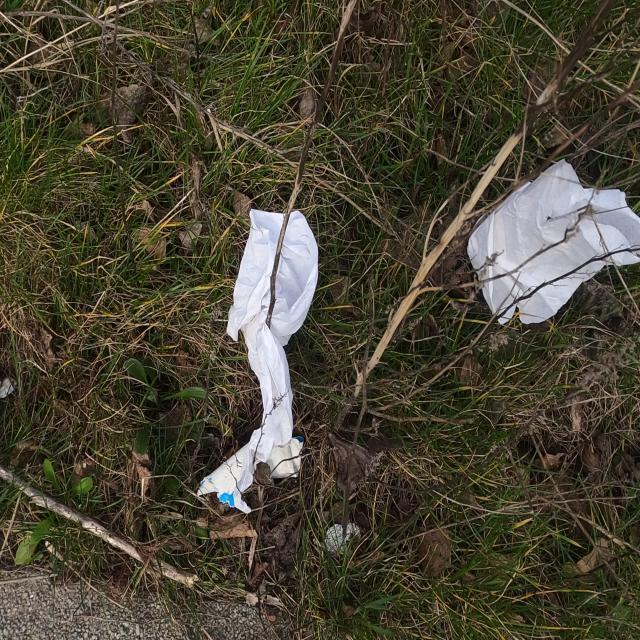Paper: (196, 207, 330, 515), (466, 156, 640, 328)
Plastic: (324, 520, 362, 558)
